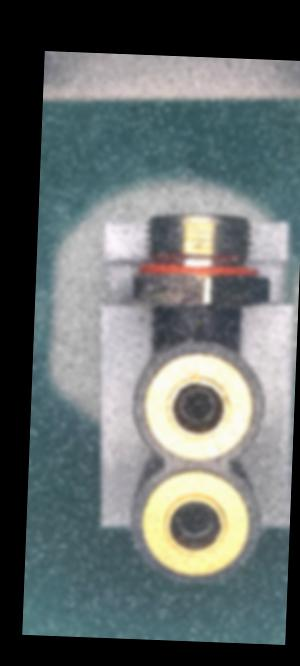craze: (192, 305, 207, 334)
